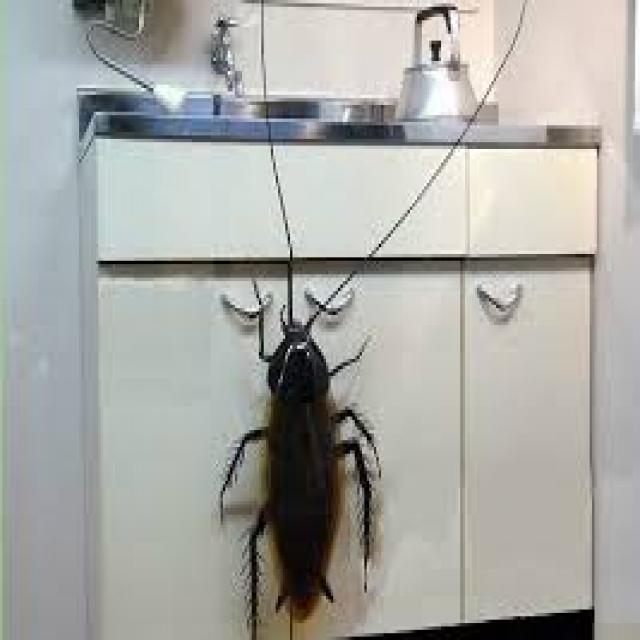Cockroach: (207, 191, 401, 640)
